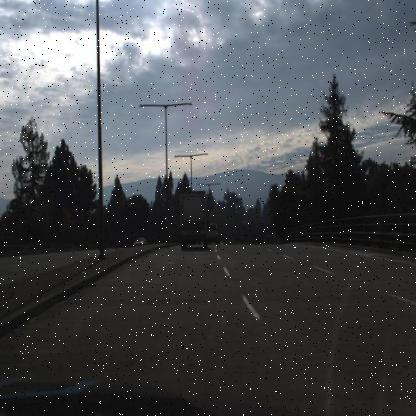car: (206, 223, 219, 243), (131, 235, 147, 247)
truck: (179, 189, 208, 251)
